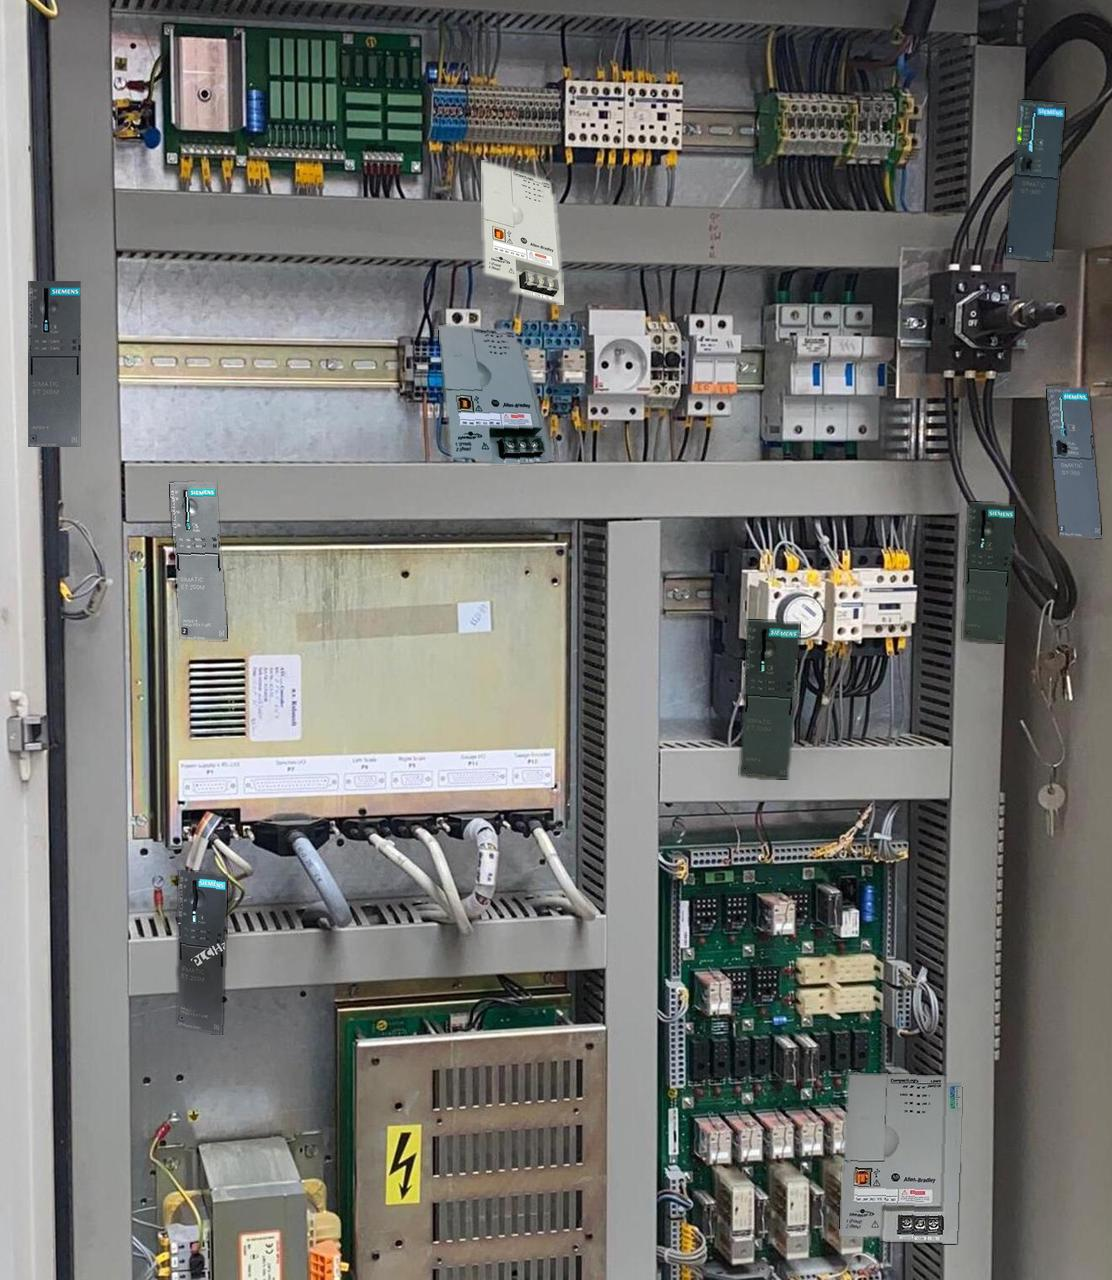AllenBradley: (839, 1073, 961, 1243), (438, 325, 553, 464), (481, 160, 563, 304)
Siemens: (1005, 99, 1065, 261), (1046, 386, 1101, 537)
